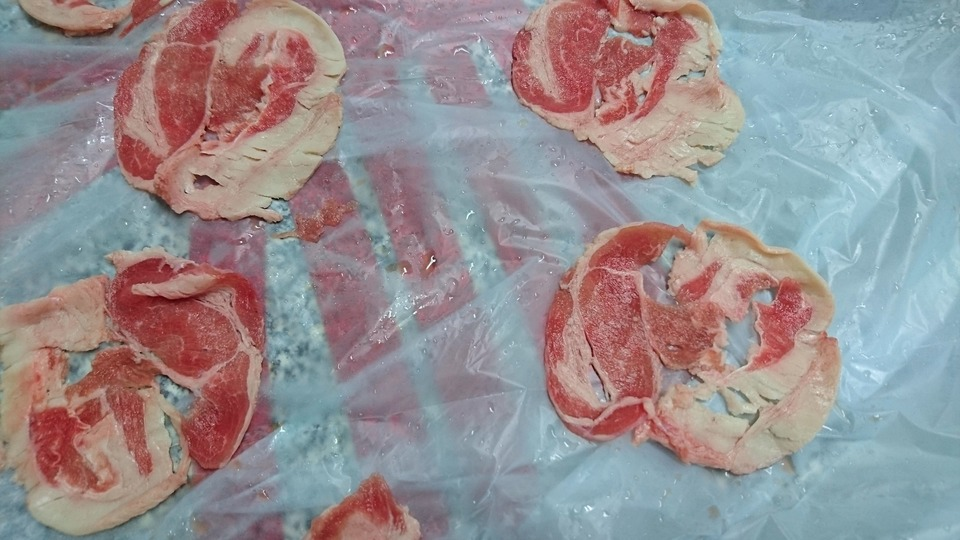restructured meat: (542, 213, 845, 475), (1, 237, 259, 537), (109, 1, 349, 224), (507, 1, 752, 184)
